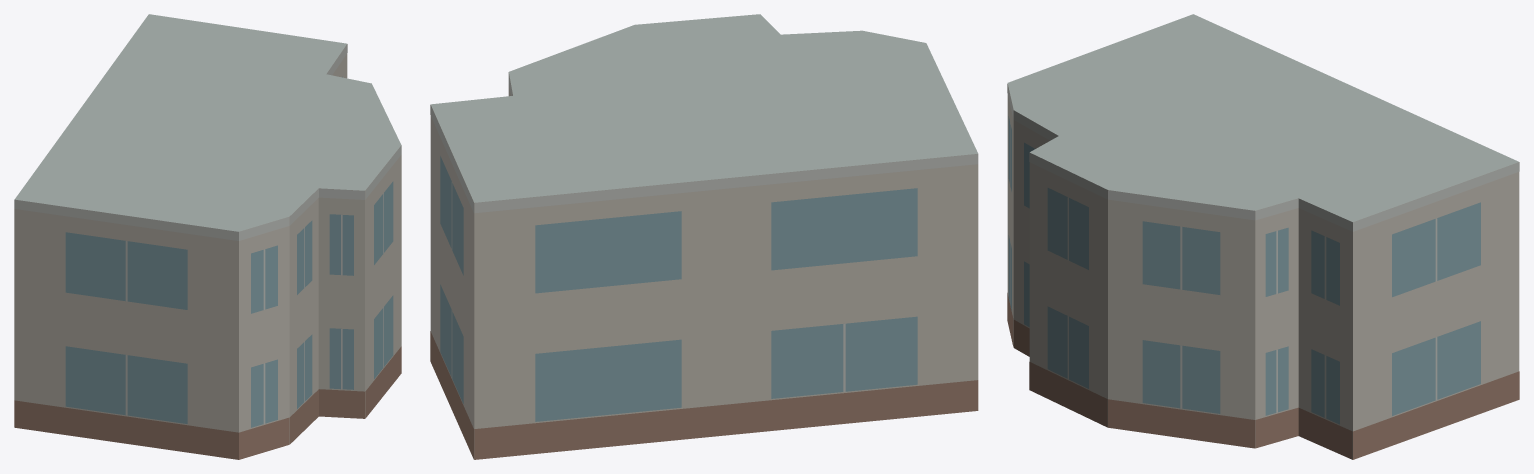
Rendered from survey-upis-32491503.glb.
The picture shows the model from 3 angles, left to right: view 1: azimuth 30°, elevation 25°; view 2: azimuth 150°, elevation 25°; view 3: azimuth 270°, elevation 25°; orthographic projection. The views are drawn at different scales.
Visible parts, largest first — view 1: survey-upis-32491503.tmp; view 2: survey-upis-32491503.tmp; view 3: survey-upis-32491503.tmp.
Part boxes in pixels (<box>): survey-upis-32491503.tmp: <box>14,14,401,459</box>; survey-upis-32491503.tmp: <box>430,14,978,459</box>; survey-upis-32491503.tmp: <box>1007,14,1519,459</box>.
Bounding box in the file's own units: 11.28 × 6 × 11.73.
